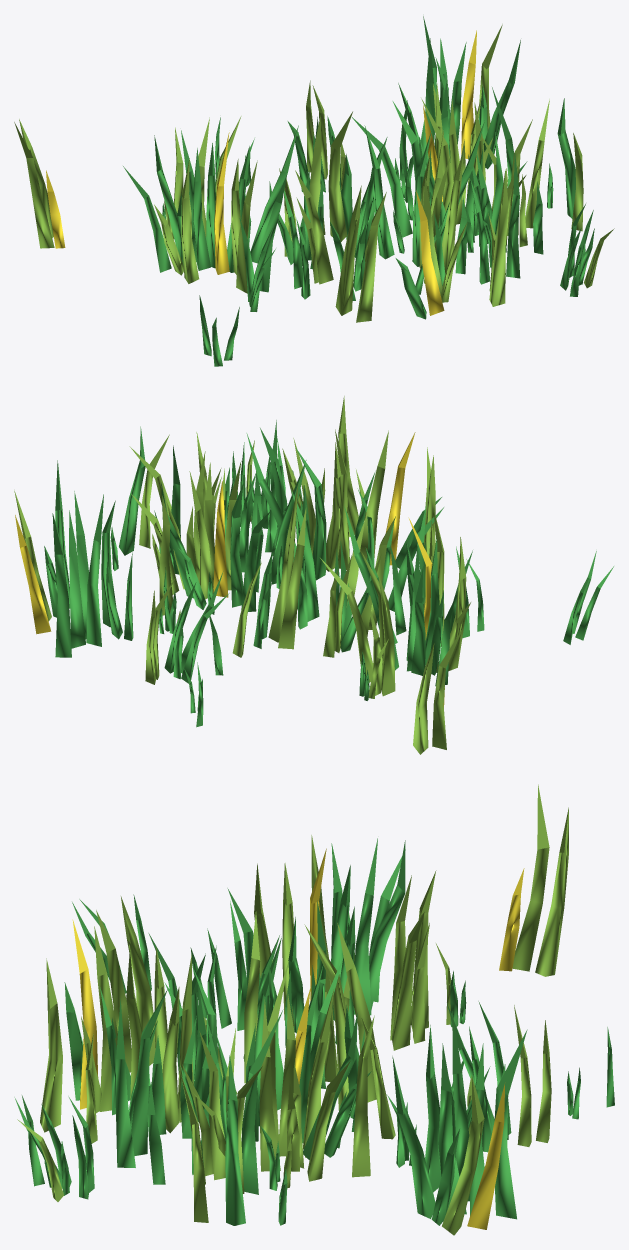
File: grass.glb
3 views of the same model, one above another, from view 1: azimuth 30°, elevation 25°; view 2: azimuth 150°, elevation 25°; view 3: azimuth 270°, elevation 25° (orthographic). The views are drawn at different scales.
Parts seen in each view (by area): view 1: group1794255474; view 2: group1794255474; view 3: group1794255474.
Part boxes in pixels (left/top/right/bottom): group1794255474: left=14, top=16, right=614, bottom=366; group1794255474: left=14, top=396, right=613, bottom=754; group1794255474: left=14, top=784, right=614, bottom=1235.
Bounding box in the file's own units: 0.9109 × 0.295 × 0.7792.
